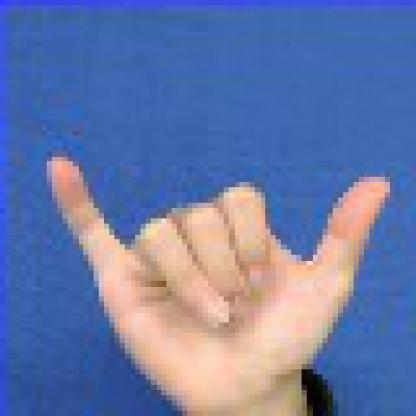six: (31, 125, 406, 411)
